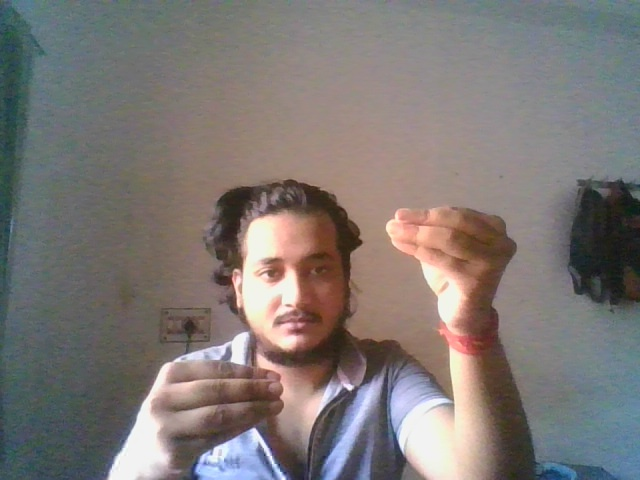Mouth: (120, 356, 285, 480), (384, 204, 518, 326)
